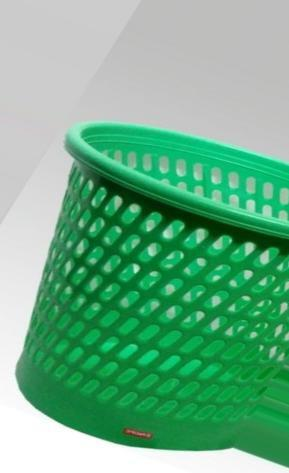Bote de Basura: (20, 119, 288, 458)
